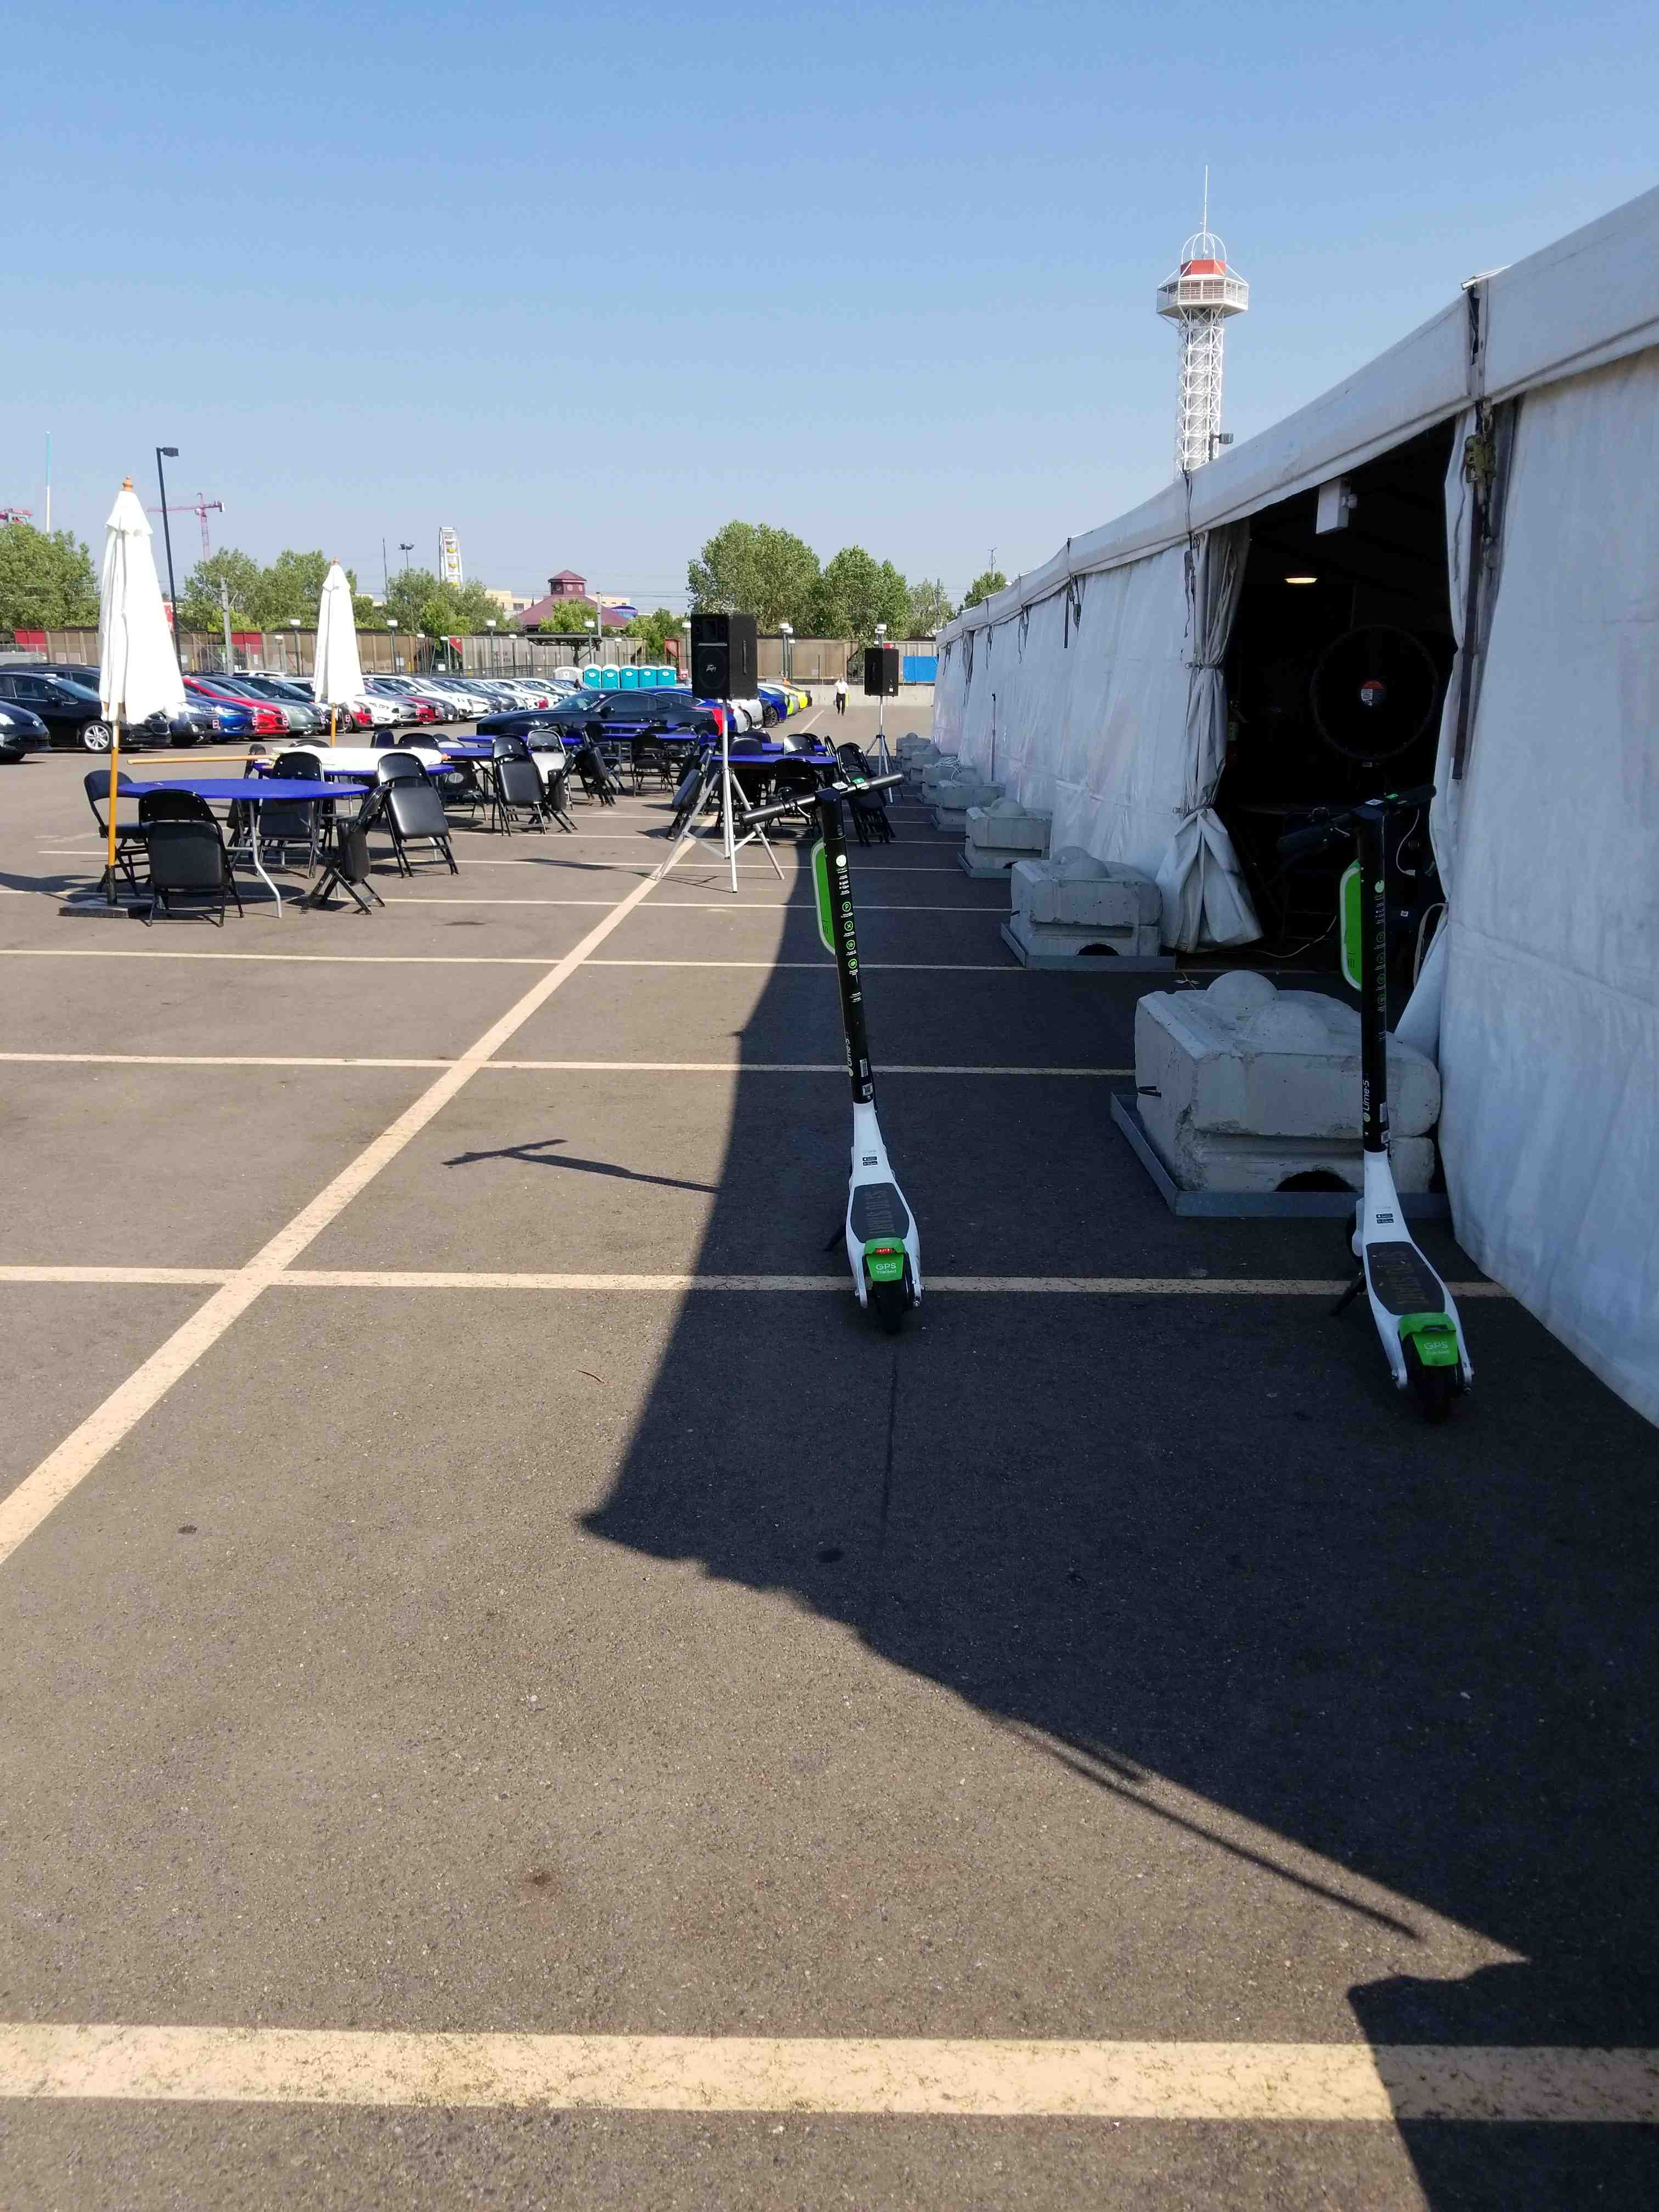scooter: (683, 756, 979, 1357)
